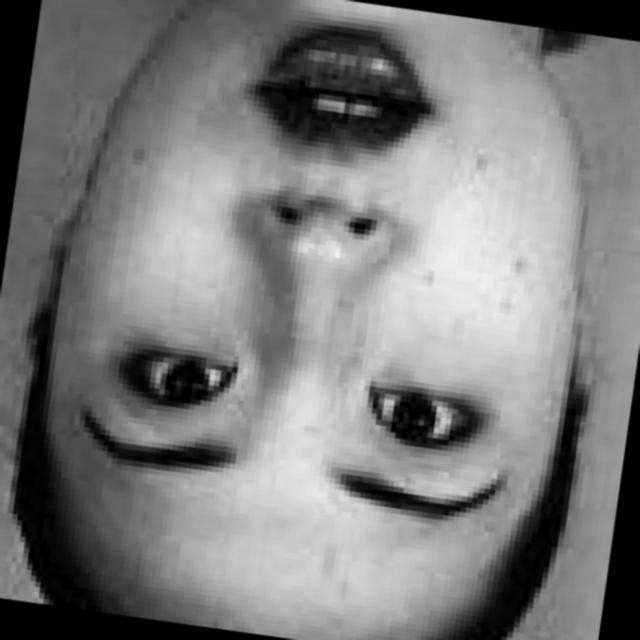surprise: (52, 0, 623, 627)
